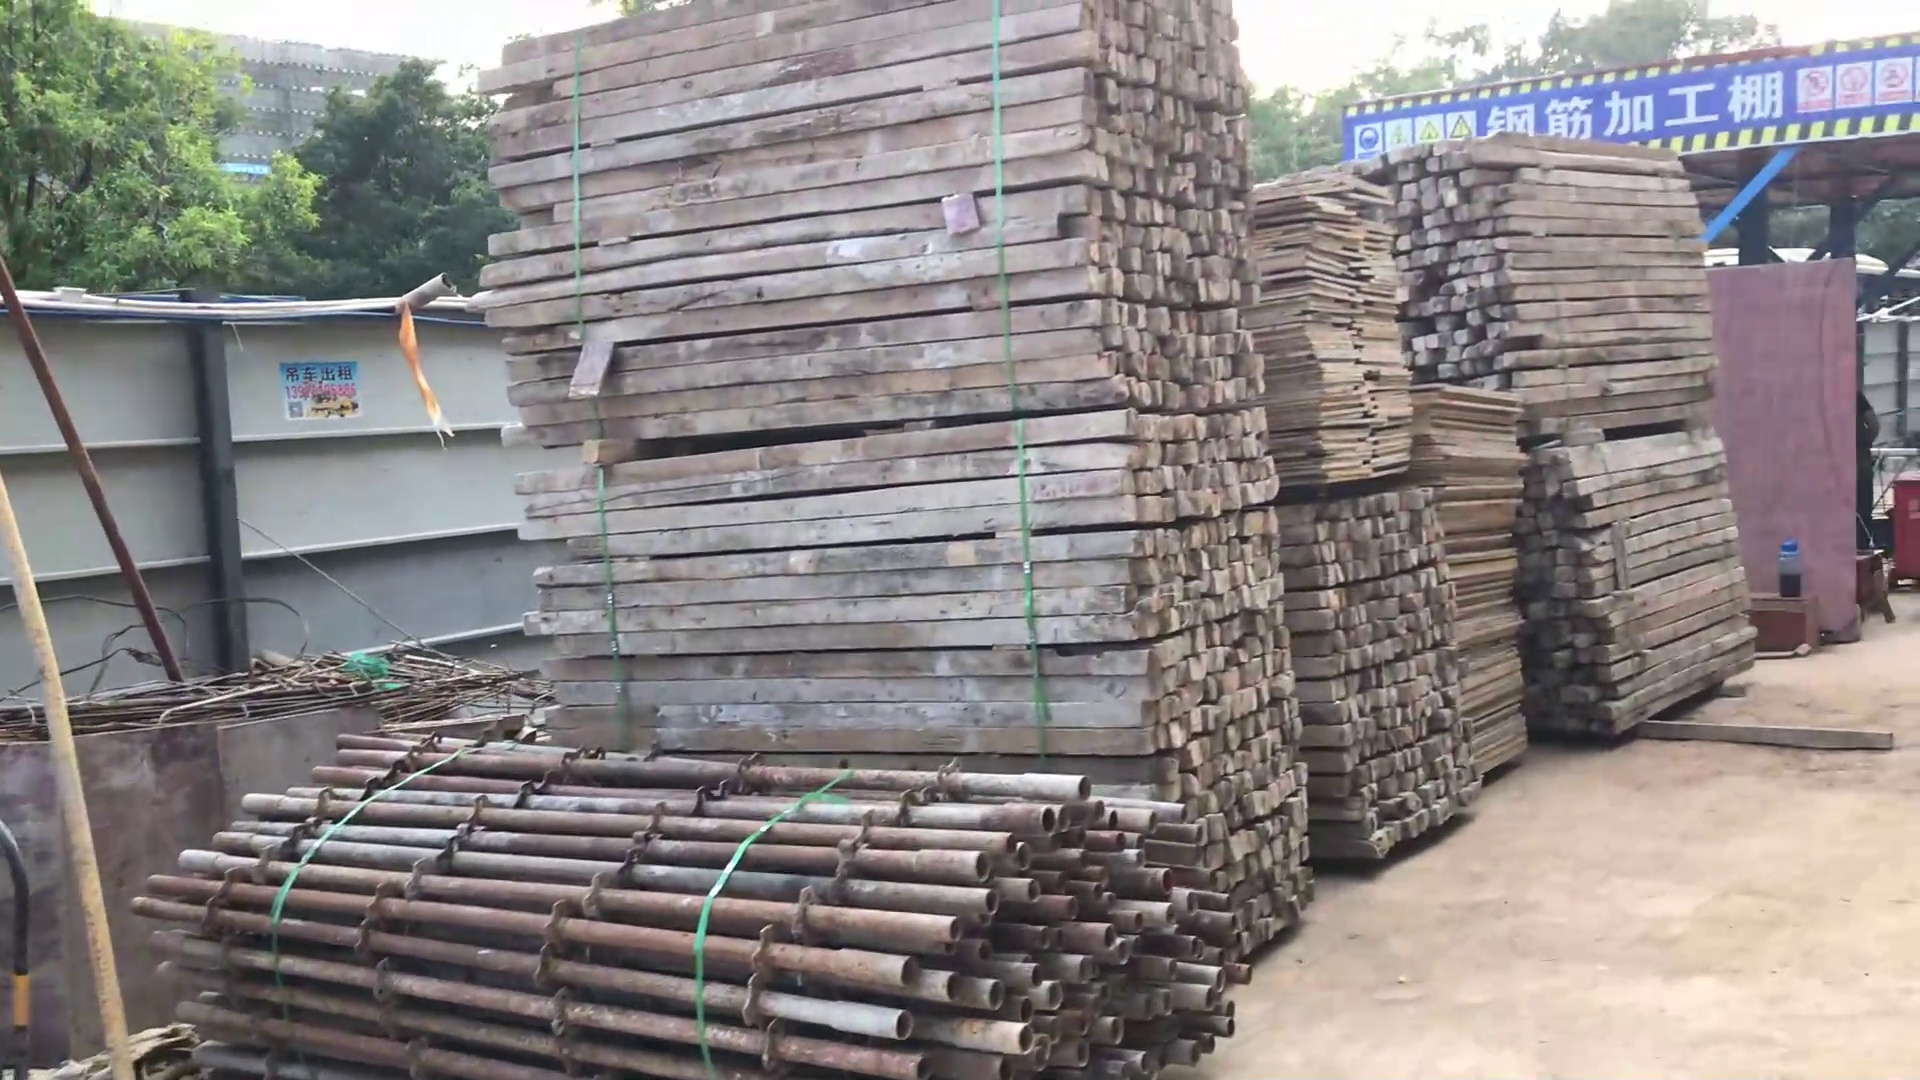board: (1250, 152, 1422, 488), (1425, 375, 1548, 790)
scaffold: (117, 719, 1232, 1080)
wood: (500, 440, 1327, 982), (476, 1, 1261, 433), (1353, 124, 1729, 444), (1516, 417, 1772, 769), (1276, 477, 1481, 872)
